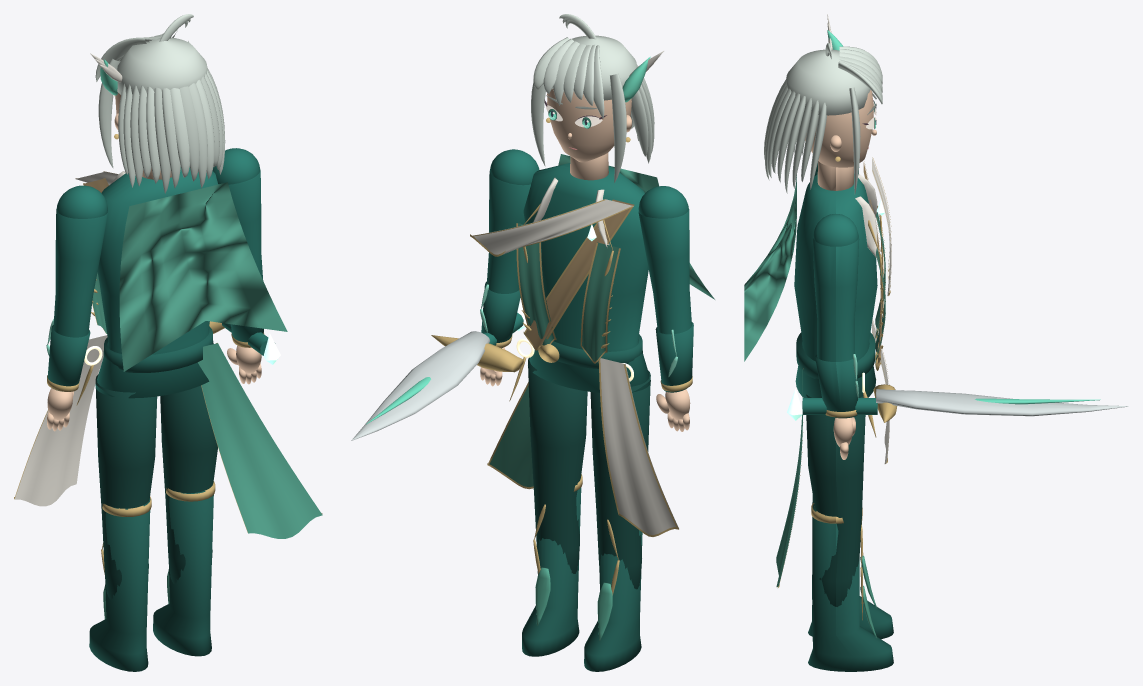
Rendered from character_00.glb.
3 views of the same model, side by side, from view 1: azimuth 30°, elevation 25°; view 2: azimuth 150°, elevation 25°; view 3: azimuth 270°, elevation 25° (orthographic). The views are drawn at different scales.
Parts seen in each view (by area): view 1: _MeshInstance3D_210, _MeshInstance3D_206, _MeshInstance3D_246, _MeshInstance3D_190, _MeshInstance3D_211, _MeshInstance3D_221, _MeshInstance3D_212, _MeshInstance3D_215, _MeshInstance3D_220, _MeshInstance3D_204, _MeshInstance3D_247, _MeshInstance3D_224 (+6 smaller); view 2: _MeshInstance3D_190, _MeshInstance3D_220, _MeshInstance3D_204, _MeshInstance3D_215, _MeshInstance3D_246, _MeshInstance3D_211, _MeshInstance3D_224, _MeshInstance3D_227, _MeshInstance3D_221, _MeshInstance3D_212, _MeshInstance3D_233, _MeshInstance3D_208 (+20 smaller); view 3: _MeshInstance3D_190, _MeshInstance3D_220, _MeshInstance3D_224, _MeshInstance3D_246, _MeshInstance3D_221, _MeshInstance3D_210, _MeshInstance3D_227, _MeshInstance3D_233, _MeshInstance3D_225, _MeshInstance3D_247, _MeshInstance3D_248, _MeshInstance3D_206 (+6 smaller).
Part boxes in pixels (left/top/right/bottom): _MeshInstance3D_210: left=119, top=182, right=287, bottom=371; _MeshInstance3D_206: left=198, top=343, right=322, bottom=538; _MeshInstance3D_246: left=95, top=14, right=225, bottom=187; _MeshInstance3D_190: left=95, top=167, right=218, bottom=398; _MeshInstance3D_211: left=95, top=374, right=157, bottom=599; _MeshInstance3D_221: left=153, top=490, right=213, bottom=656; _MeshInstance3D_212: left=89, top=498, right=150, bottom=671; _MeshInstance3D_215: left=53, top=185, right=107, bottom=390; _MeshInstance3D_220: left=160, top=385, right=217, bottom=583; _MeshInstance3D_204: left=15, top=335, right=107, bottom=506; _MeshInstance3D_247: left=118, top=73, right=223, bottom=188; _MeshInstance3D_224: left=212, top=148, right=275, bottom=355; _MeshInstance3D_190: left=523, top=163, right=650, bottom=392; _MeshInstance3D_220: left=528, top=357, right=587, bottom=573; _MeshInstance3D_204: left=600, top=358, right=678, bottom=534; _MeshInstance3D_215: left=638, top=186, right=691, bottom=392; _MeshInstance3D_246: left=531, top=14, right=652, bottom=182; _MeshInstance3D_211: left=590, top=370, right=650, bottom=589; _MeshInstance3D_224: left=483, top=149, right=539, bottom=348; _MeshInstance3D_227: left=351, top=331, right=489, bottom=440; _MeshInstance3D_221: left=522, top=487, right=581, bottom=656; _MeshInstance3D_212: left=584, top=530, right=642, bottom=671; _MeshInstance3D_233: left=547, top=88, right=631, bottom=162; _MeshInstance3D_208: left=473, top=199, right=633, bottom=254; _MeshInstance3D_190: left=794, top=174, right=877, bottom=397; _MeshInstance3D_220: left=806, top=394, right=865, bottom=606; _MeshInstance3D_224: left=802, top=214, right=877, bottom=418; _MeshInstance3D_246: left=766, top=43, right=882, bottom=194; _MeshInstance3D_221: left=808, top=504, right=893, bottom=671; _MeshInstance3D_210: left=744, top=175, right=796, bottom=361; _MeshInstance3D_227: left=876, top=389, right=1128, bottom=416; _MeshInstance3D_233: left=805, top=90, right=876, bottom=167; _MeshInstance3D_225: left=815, top=354, right=857, bottom=411; _MeshInstance3D_247: left=765, top=86, right=818, bottom=182; _MeshInstance3D_248: left=764, top=82, right=811, bottom=188; _MeshInstance3D_206: left=776, top=369, right=802, bottom=587.
Bounding box in the file's own units: 1.03 × 2.44 × 1.39.
